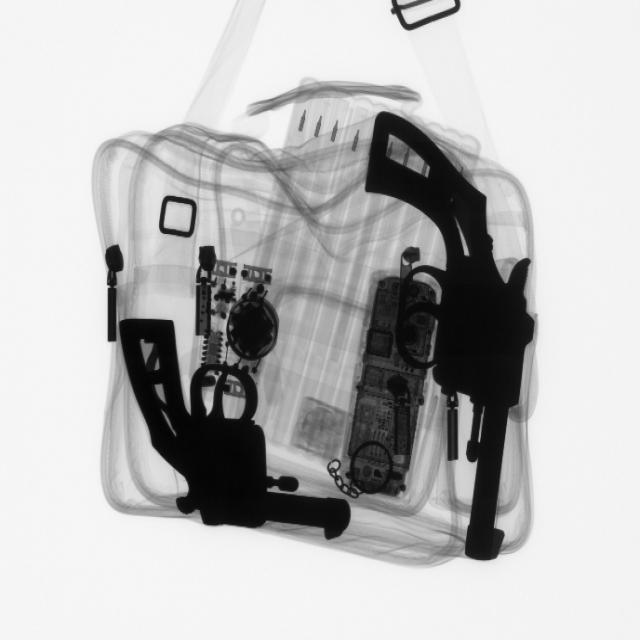GUN: (382, 112, 549, 568), (115, 304, 343, 542)
